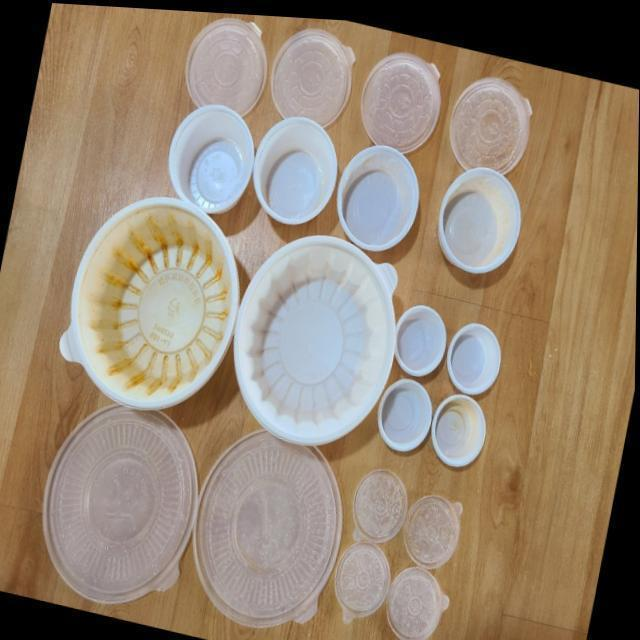disposable: (212, 233, 442, 448), (45, 184, 246, 423)
